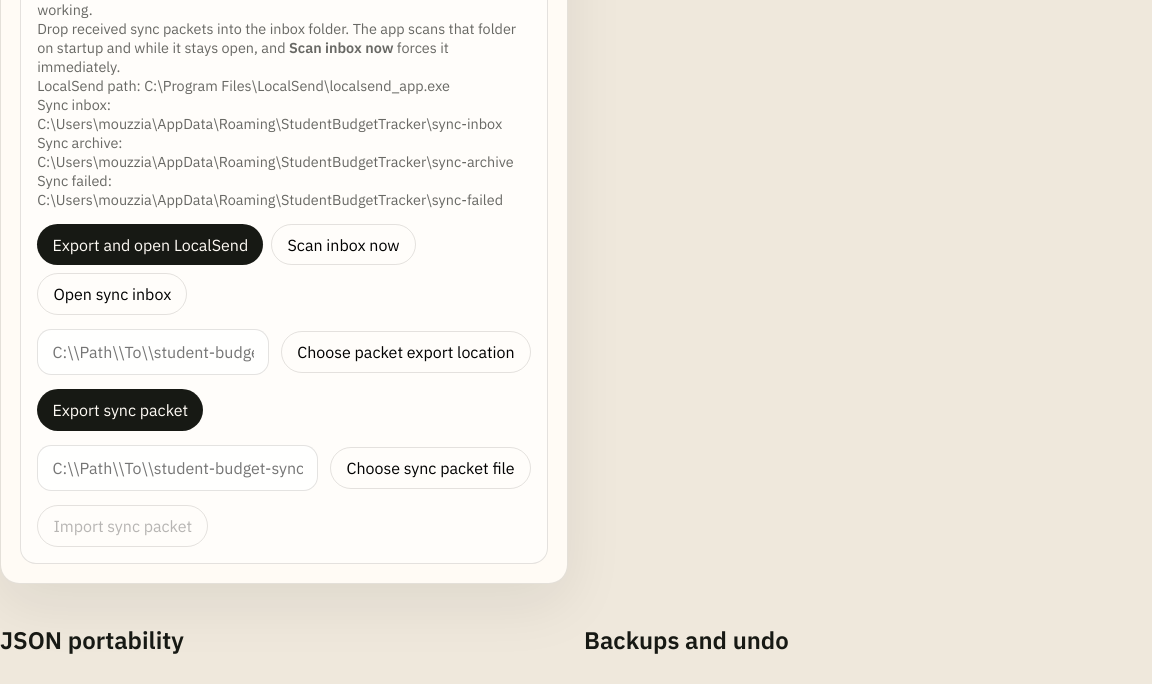
Test: SettingsPage › exports a sync packet with the selected path
(page scrolled)
Click the button "Choose packet export location" at [406, 352], box [281, 331, 531, 373]
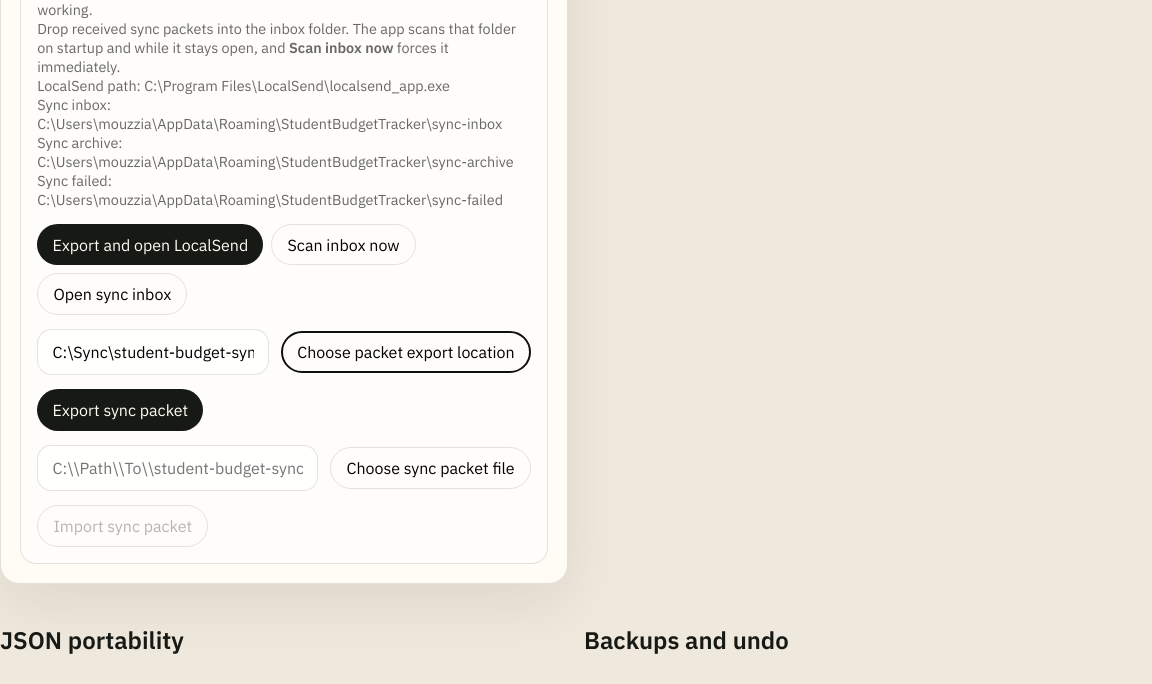
Check: the field named "Export sync packet path" holds "C:\\Sync\\student-budget-sync.json", box [37, 329, 269, 375]
Click the button "Export sync packet" at [120, 410], box [37, 389, 203, 431]
(page scrolled)
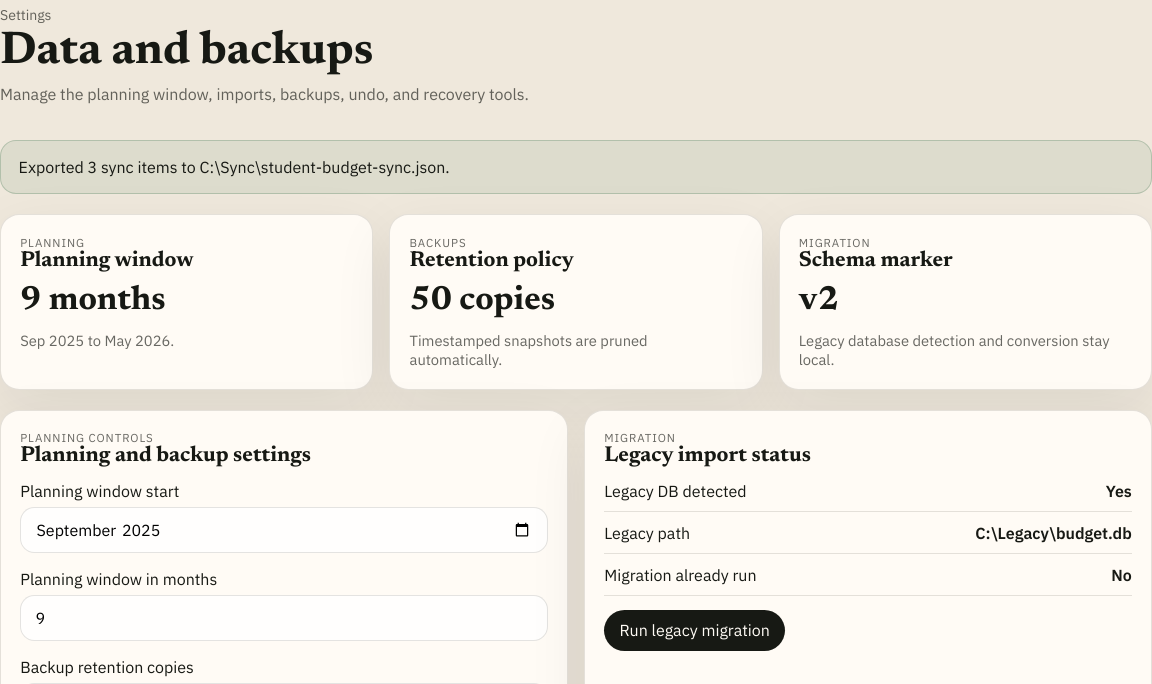
Check: the text "Exported 3 sync items to C:\\Sync\\student-budget-sync.json." is shown, box [19, 157, 450, 177]
